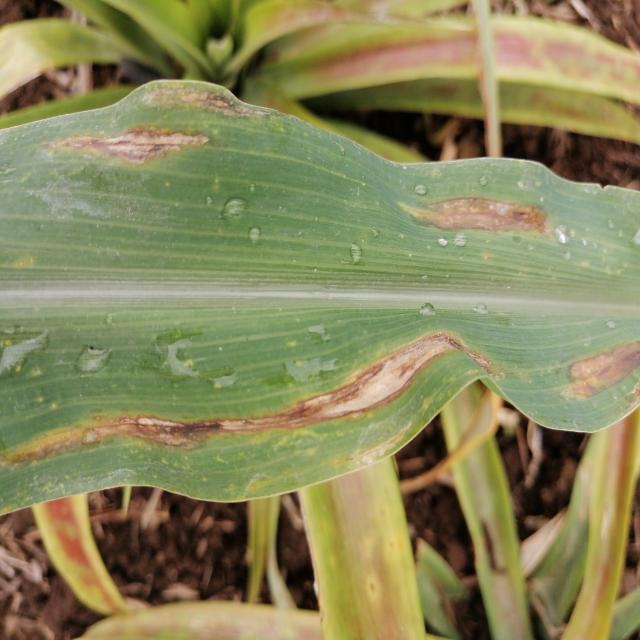Corn_Leaf_Blight: (0, 79, 640, 495)
